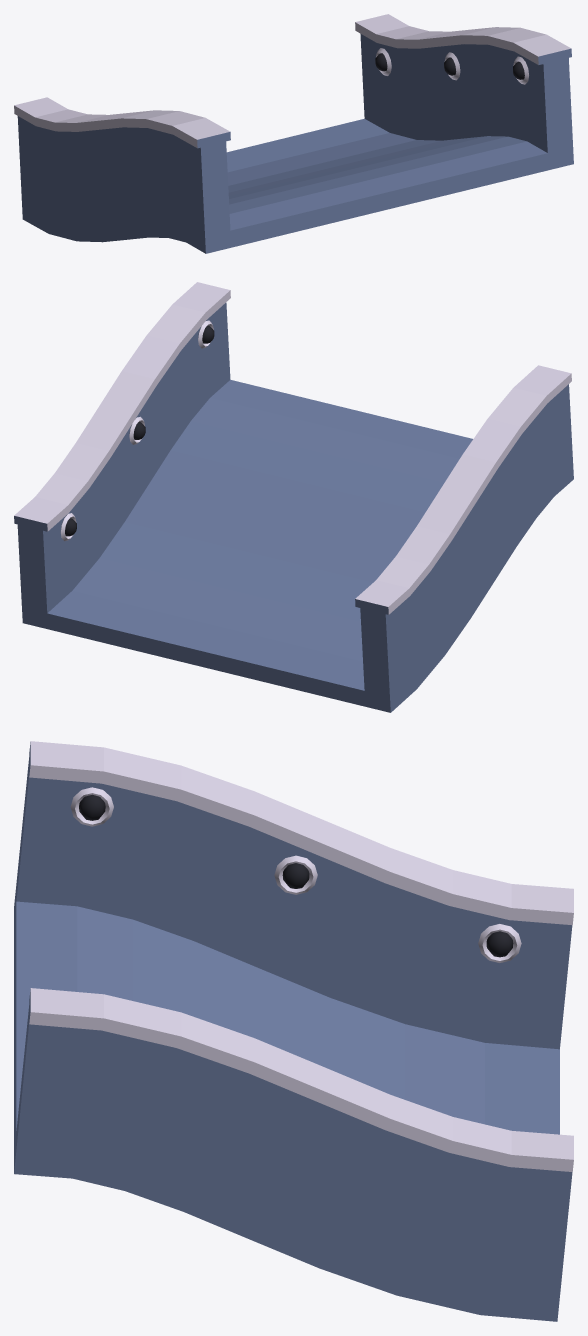
Rendered from W1_Canal_Ramp.fbx.
The picture shows the model from 3 angles, top to bottom: view 1: azimuth 30°, elevation 25°; view 2: azimuth 150°, elevation 25°; view 3: azimuth 270°, elevation 25°; orthographic projection. The views are drawn at different scales.
Visible parts, largest first — view 1: W1_Canal_Ramp; view 2: W1_Canal_Ramp; view 3: W1_Canal_Ramp.
Boxes of the visible parts, x1,y1,x2,y2 form: W1_Canal_Ramp: [14, 14, 573, 253]; W1_Canal_Ramp: [14, 282, 573, 712]; W1_Canal_Ramp: [14, 741, 573, 1321].
Size of the model in its own units: 11.8 by 6.34 by 10.3.
